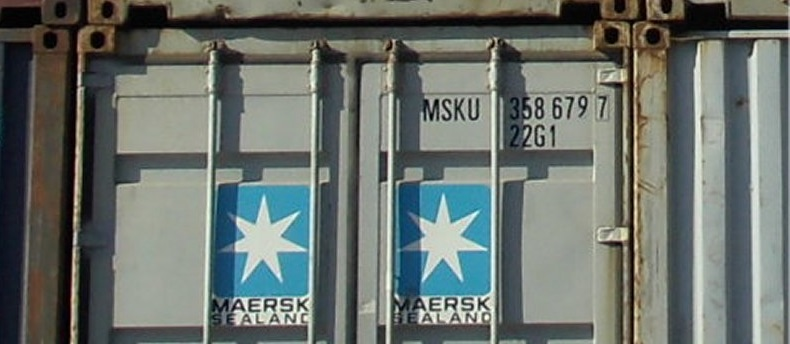container_door: (74, 20, 634, 344)
